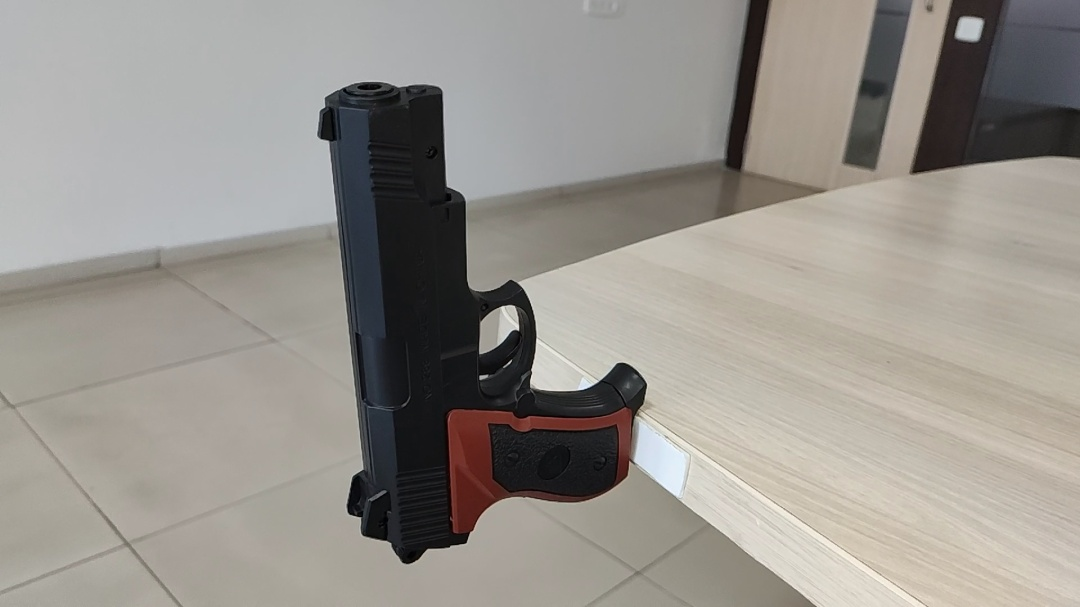gun: (383, 281, 424, 301)
